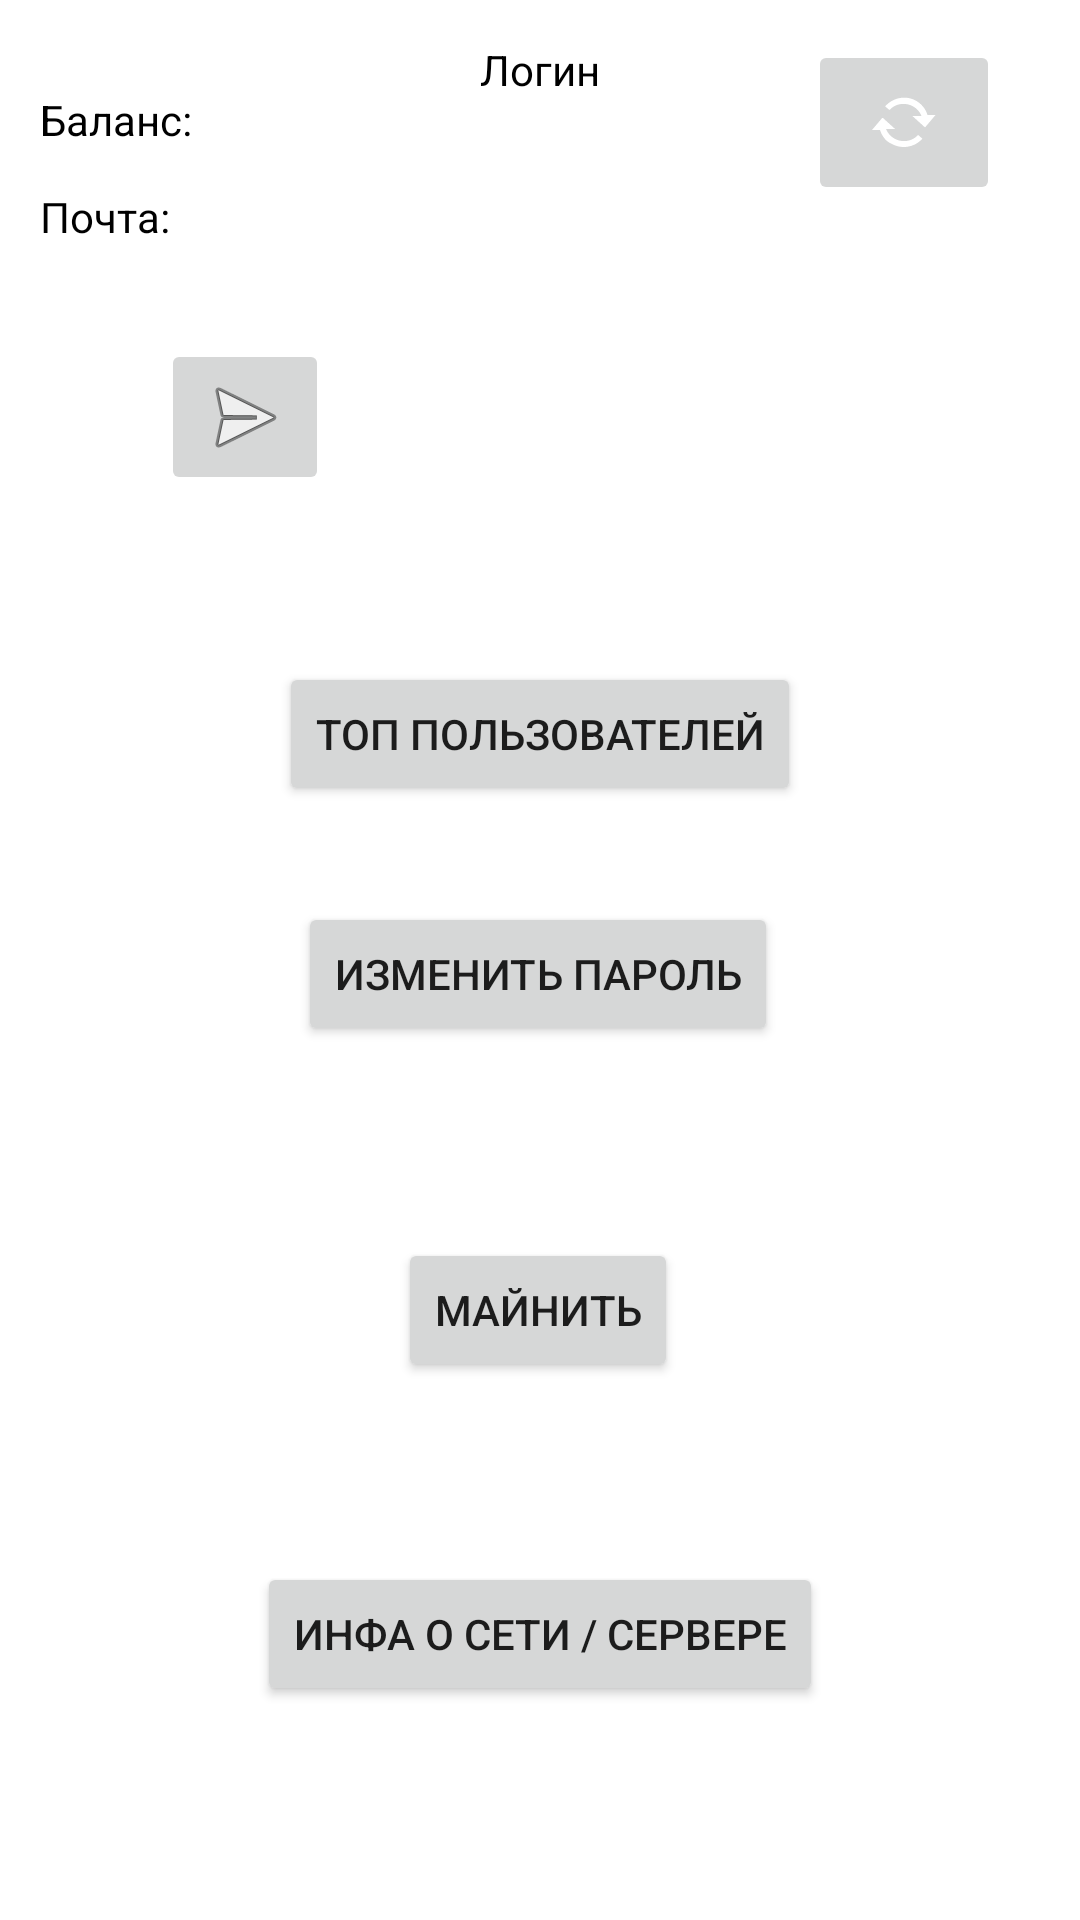

Icons on this 1080w x 1920h Android screen, each with its box as (x1, y1, x2, y2):
send: (173, 357, 317, 477)
sync: (820, 58, 988, 187)
